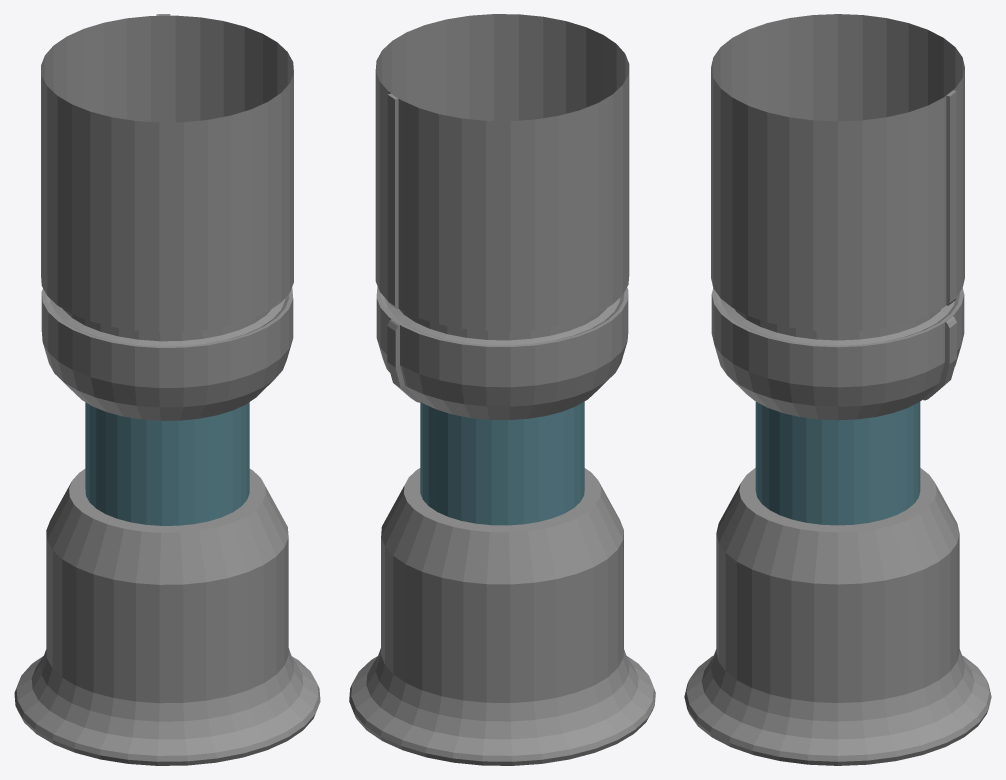
The model's file is Incubator.fbx.
3 views of the same model, side by side, from view 1: azimuth 30°, elevation 25°; view 2: azimuth 150°, elevation 25°; view 3: azimuth 270°, elevation 25° (orthographic).
Parts seen in each view (by area): view 1: Cylinder, Glas; view 2: Cylinder, Glas; view 3: Cylinder, Glas.
Part boxes in pixels (<box>): Cylinder: <box>14,14,320,765</box>; Glas: <box>85,402,249,525</box>; Cylinder: <box>349,14,655,765</box>; Glas: <box>420,401,584,525</box>; Cylinder: <box>684,14,991,765</box>; Glas: <box>755,402,920,525</box>.
Size of the model in its own units: 525 by 525 by 1196.
